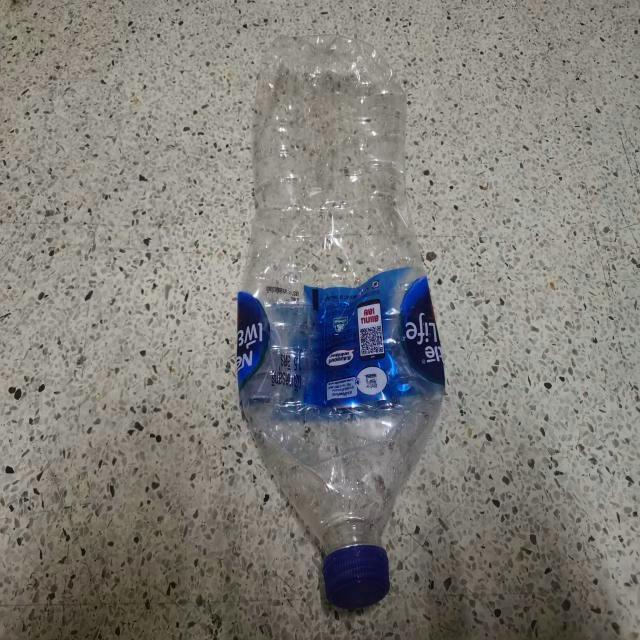bottle: (236, 34, 446, 609)
